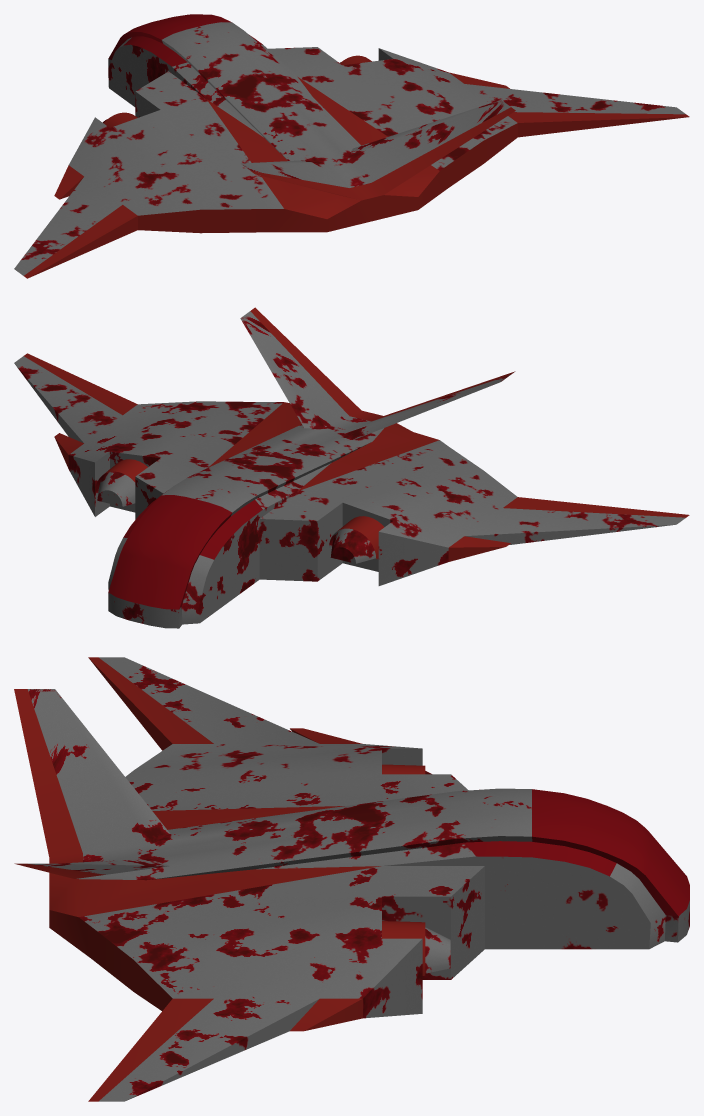
Rendered from MardarianSix.fbx.
The picture shows the model from 3 angles, top to bottom: view 1: azimuth 30°, elevation 25°; view 2: azimuth 150°, elevation 25°; view 3: azimuth 270°, elevation 25°; orthographic projection. The views are drawn at different scales.
Visible parts, largest first — view 1: mardarian_6; view 2: mardarian_6; view 3: mardarian_6.
Part boxes in pixels (x1,y1,x2,y2): mardarian_6: (14, 14, 689, 278); mardarian_6: (14, 307, 689, 628); mardarian_6: (14, 657, 689, 1101).
Bounding box in the file's own units: 21478 × 13812 × 3213.
